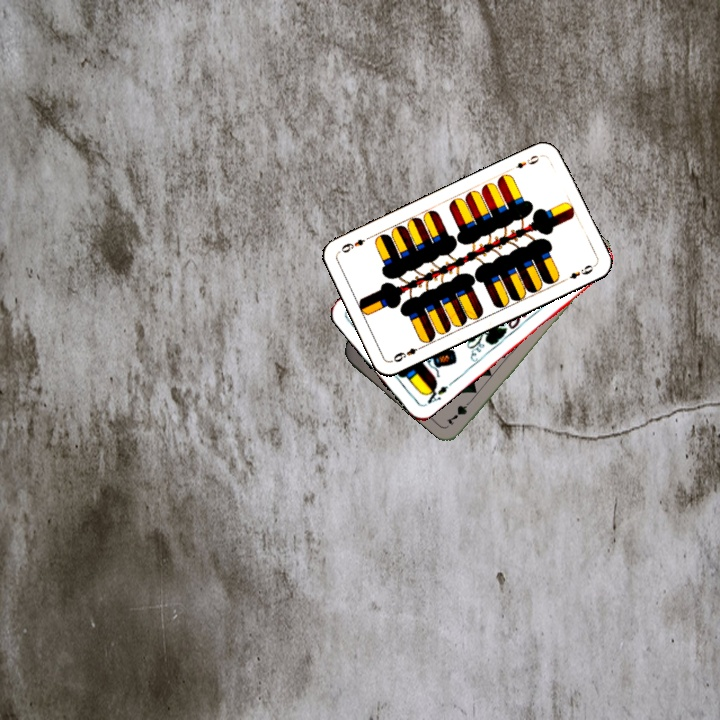E9: (389, 342, 426, 365), (511, 151, 544, 171)
EA: (420, 380, 451, 407)
G7: (444, 394, 476, 428)
